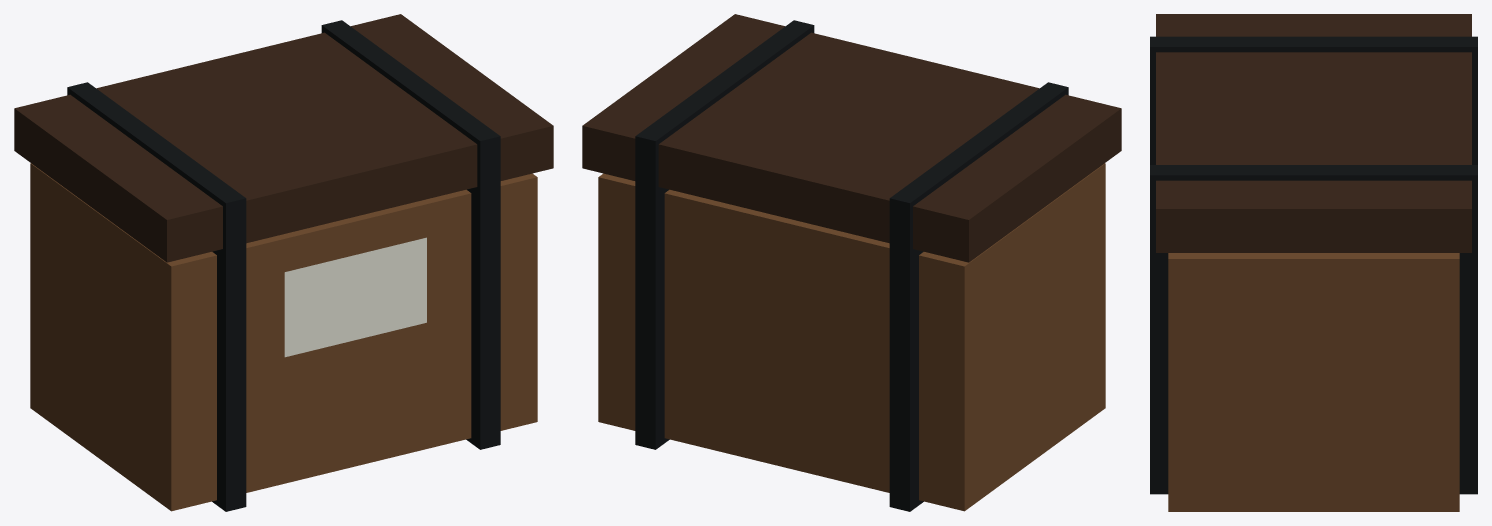
File: supply-crate.glb
3 renders of one model, left to right at view 1: azimuth 30°, elevation 25°; view 2: azimuth 150°, elevation 25°; view 3: azimuth 270°, elevation 25°, orthographic. The views are drawn at different scales.
Parts seen in each view (by area): view 1: crateBody, lid, leftStrap, rightStrap, frontStencil; view 2: crateBody, lid, leftStrap, rightStrap; view 3: crateBody, lid, rightStrap, leftStrap.
Part boxes in pixels (x1,y1,x2,y2): crateBody: (30, 163, 537, 511); lid: (14, 14, 553, 262); leftStrap: (67, 82, 246, 511); rightStrap: (321, 20, 500, 449); frontStencil: (284, 237, 426, 357); crateBody: (598, 163, 1105, 511); lid: (582, 14, 1121, 262); leftStrap: (889, 82, 1068, 511); rightStrap: (635, 20, 814, 449); crateBody: (1168, 253, 1459, 511); lid: (1156, 14, 1471, 252); rightStrap: (1150, 165, 1477, 494); leftStrap: (1150, 36, 1477, 164).
Bounding box in the file's own units: 0.76 × 0.58 × 0.54.
